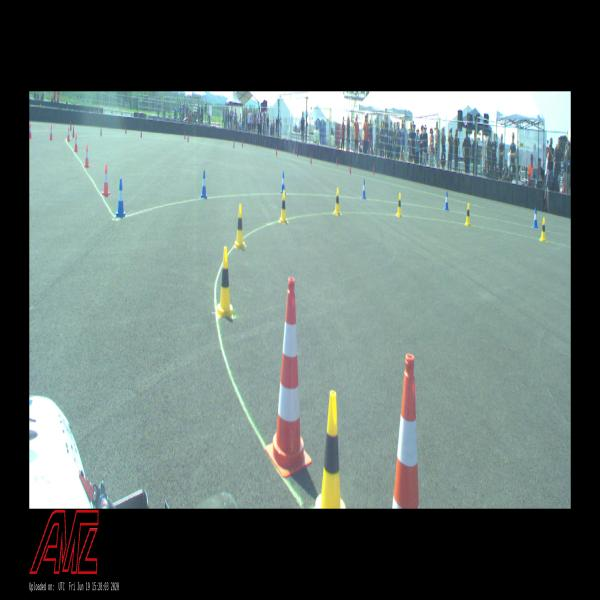blue_cone: (116, 178, 126, 218), (200, 170, 208, 199), (280, 172, 286, 193), (532, 208, 538, 228), (444, 191, 449, 211), (362, 180, 366, 200)
large_orange_cone: (264, 278, 312, 477), (391, 354, 420, 508)
orange_cone: (102, 164, 110, 197), (84, 144, 90, 168), (74, 134, 78, 152), (66, 126, 70, 142), (49, 124, 53, 140), (30, 123, 32, 139)
yellow_cone: (315, 390, 346, 508), (216, 246, 234, 320), (234, 204, 246, 249), (279, 190, 288, 225), (334, 187, 341, 215), (396, 193, 402, 218), (540, 217, 546, 242), (465, 204, 470, 225)
